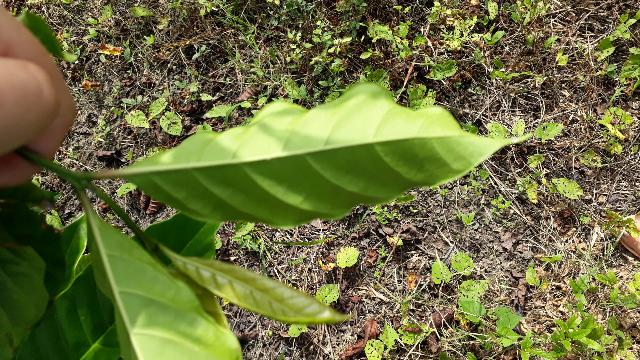healthy: (122, 78, 528, 228)
